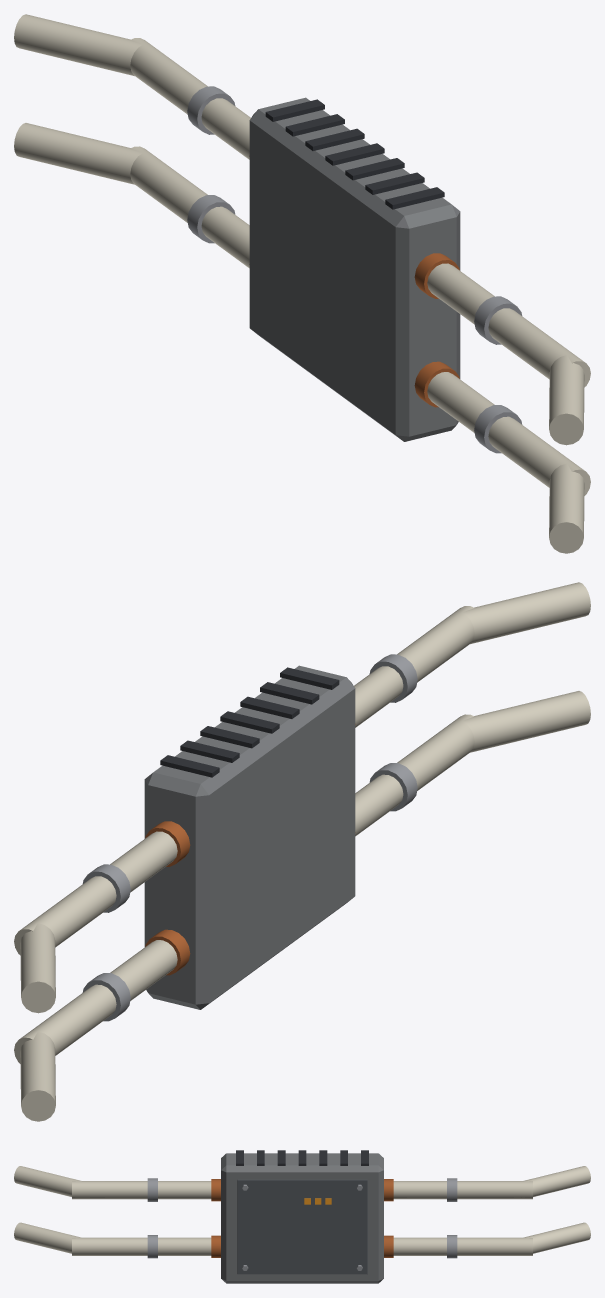
The model's file is er1_inverter.obj.
The picture shows the model from 3 angles, top to bottom: view 1: azimuth 30°, elevation 25°; view 2: azimuth 150°, elevation 25°; view 3: azimuth 270°, elevation 25°; orthographic projection. The views are drawn at different scales.
Parts seen in each view (by area): view 1: er1_inverter; view 2: er1_inverter; view 3: er1_inverter.
Boxes of the visible parts, x1=… form: er1_inverter: x1=14, y1=14, x2=590, y2=553; er1_inverter: x1=14, y1=582, x2=590, y2=1121; er1_inverter: x1=14, y1=1150, x2=590, y2=1283.
Bounding box in the file's own units: 0.2441 × 0.4774 × 2.07.
